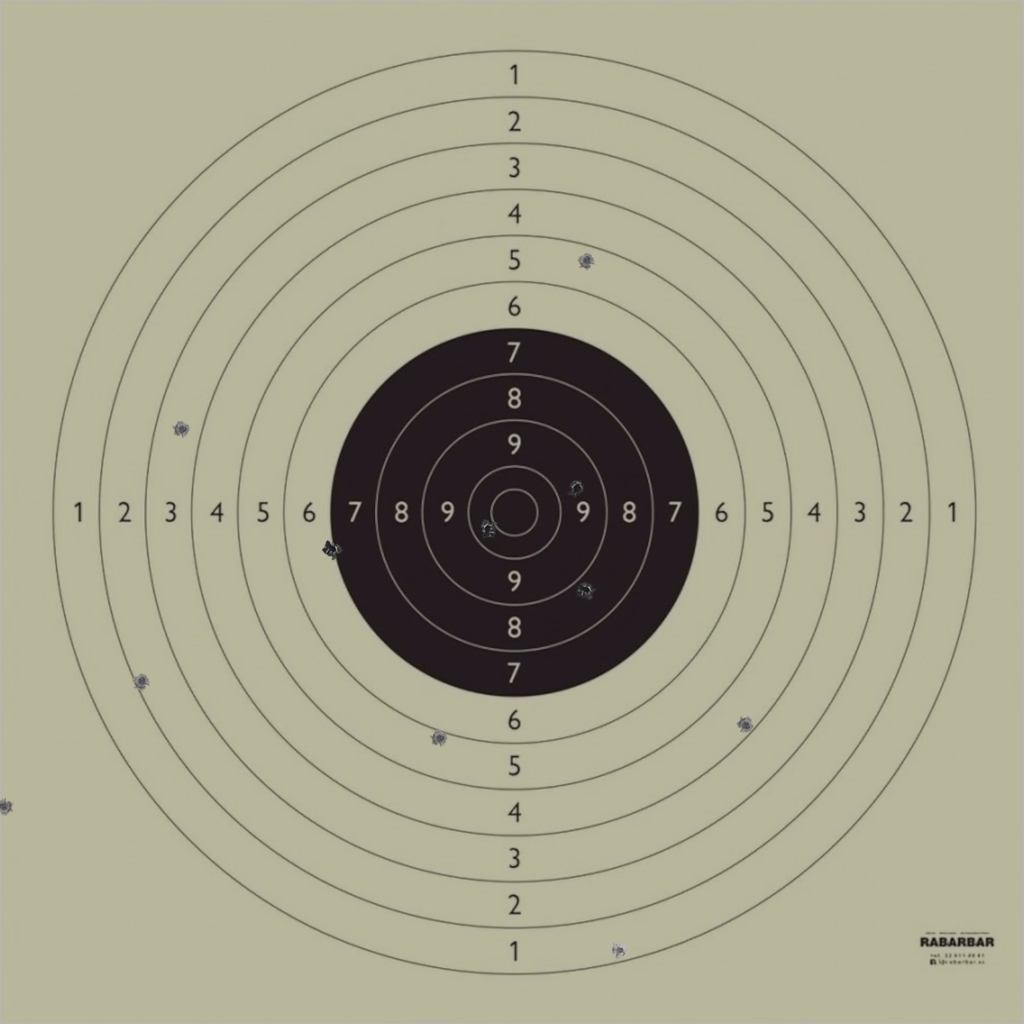0 punktow: (0, 797, 13, 816)
1 punkt: (610, 941, 629, 960)
10 punktow: (479, 520, 497, 539)
2 punkty: (132, 672, 151, 691)
3 punkty: (173, 420, 191, 438)
4 punkty: (737, 716, 755, 734)
5 punktow: (577, 251, 596, 270)
6 punktow: (430, 729, 449, 747)
7 punktow: (323, 540, 341, 558)
8 punktow: (577, 581, 596, 599)
9 punktow: (567, 479, 586, 498)
